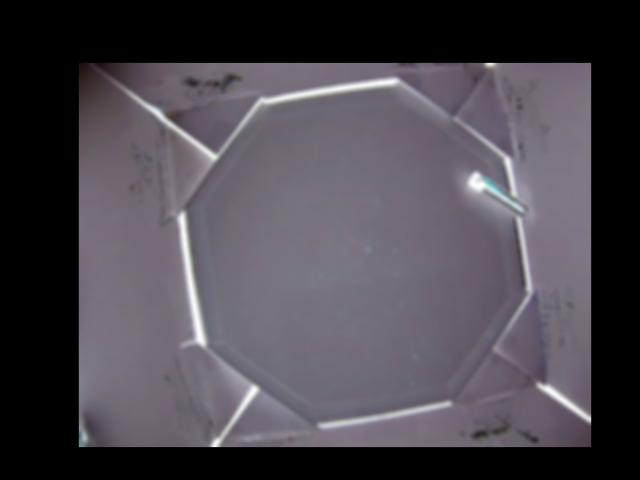Battery: (465, 169, 527, 217)
